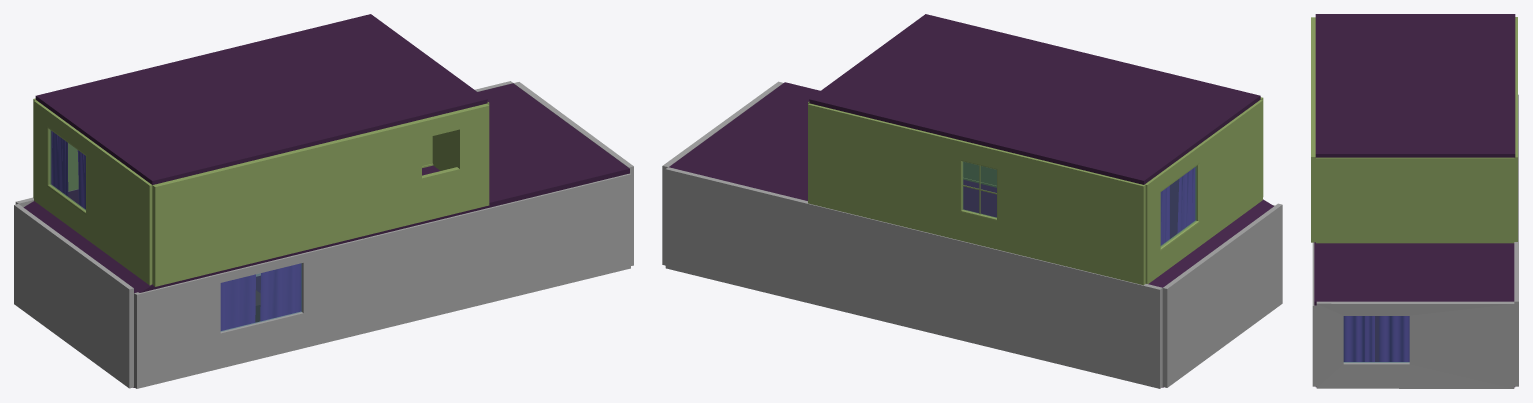
File: Modelo Casa V3.fbx
3 renders of one model, left to right at view 1: azimuth 30°, elevation 25°; view 2: azimuth 150°, elevation 25°; view 3: azimuth 270°, elevation 25°, orthographic. The views are drawn at different scales.
Visible parts, largest first — view 1: polySurface40, Techo, polySurface44, Techo_Piso, pCube64, polySurface42, Cortinas_Casa, polySurface39, polySurface45, polySurface38, pCube145, pCube181; view 2: pCube2, Techo, pCube181, pCube64, Techo_Piso, polySurface42, polySurface45, Cortinas_Casa, polySurface46, polySurface38, pCube176; view 3: Techo, pCube145, polySurface38, Techo_Piso, polySurface37, Cortinas_Casa, polySurface44, pCube2, pCube181, polySurface40, Piso.
Part boxes in pixels (left/top/right/bottom): polySurface40: left=134, top=173, right=630, bottom=388; Techo: left=35, top=14, right=487, bottom=184; polySurface44: left=152, top=103, right=489, bottom=286; Techo_Piso: left=23, top=83, right=629, bottom=292; pCube64: left=14, top=204, right=133, bottom=388; polySurface42: left=34, top=100, right=152, bottom=285; Cortinas_Casa: left=51, top=131, right=301, bottom=330; polySurface39: left=221, top=263, right=301, bottom=331; polySurface45: left=50, top=130, right=85, bottom=210; polySurface38: left=513, top=82, right=633, bottom=265; pCube145: left=432, top=102, right=489, bottom=170; pCube181: left=33, top=98, right=78, bottom=198; pCube2: left=665, top=167, right=1162, bottom=388; Techo: left=809, top=14, right=1260, bottom=184; pCube181: left=808, top=103, right=1145, bottom=285; pCube64: left=1162, top=203, right=1282, bottom=387; Techo_Piso: left=669, top=82, right=1273, bottom=287; polySurface42: left=1145, top=100, right=1262, bottom=283; polySurface45: left=1161, top=166, right=1196, bottom=246; Cortinas_Casa: left=1160, top=167, right=1195, bottom=245; polySurface46: left=963, top=162, right=996, bottom=217; polySurface38: left=662, top=81, right=783, bottom=265; pCube176: left=963, top=162, right=996, bottom=185; Techo: left=1315, top=14, right=1515, bottom=157; pCube145: left=1316, top=157, right=1514, bottom=243; polySurface38: left=1316, top=301, right=1514, bottom=388; Techo_Piso: left=1314, top=242, right=1514, bottom=305; polySurface37: left=1344, top=316, right=1409, bottom=362; Cortinas_Casa: left=1343, top=316, right=1409, bottom=361; polySurface44: left=1311, top=17, right=1315, bottom=242; pCube2: left=1514, top=94, right=1518, bottom=386; pCube181: left=1514, top=17, right=1517, bottom=241; polySurface40: left=1312, top=242, right=1316, bottom=386; Piso: left=1316, top=316, right=1514, bottom=387.
Bounding box in the file's own units: 1333 × 510 × 555.
